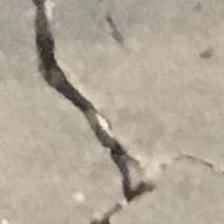Crack: (23, 0, 181, 224)
